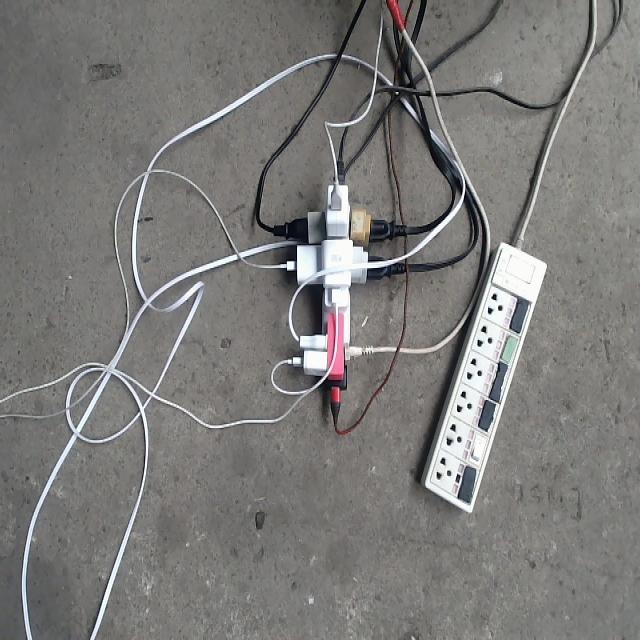-: (281, 176, 387, 412)
